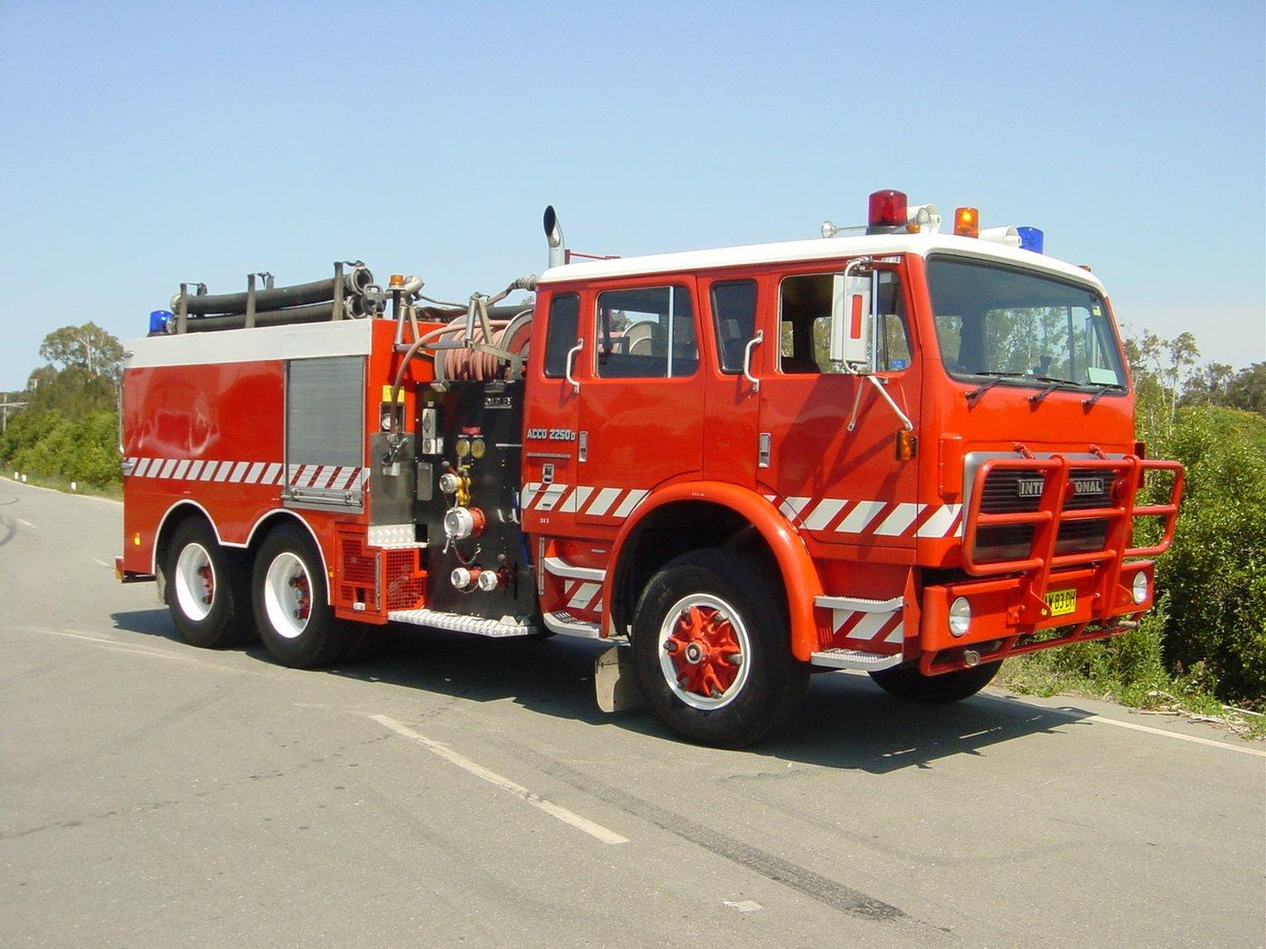Fire-engine: (113, 188, 1186, 748)
